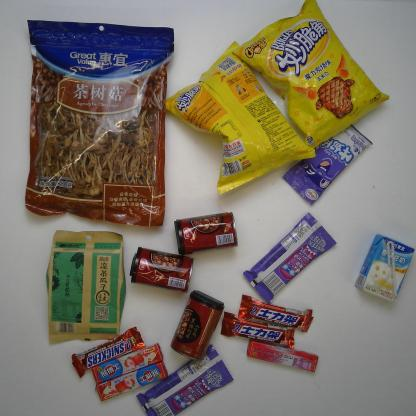Candy: (242, 212, 338, 304), (281, 123, 374, 207), (135, 344, 235, 416), (94, 360, 168, 402), (91, 342, 164, 382), (246, 339, 319, 373)
Canned Food: (170, 289, 224, 360), (128, 245, 196, 294), (172, 210, 240, 254)
Chocolate: (71, 326, 146, 380), (236, 294, 316, 334), (220, 310, 296, 350)
Dried Food: (22, 18, 176, 228), (45, 229, 128, 346)
Milk: (353, 233, 415, 303)
Puffed Food: (162, 40, 316, 195), (230, 0, 391, 148)
